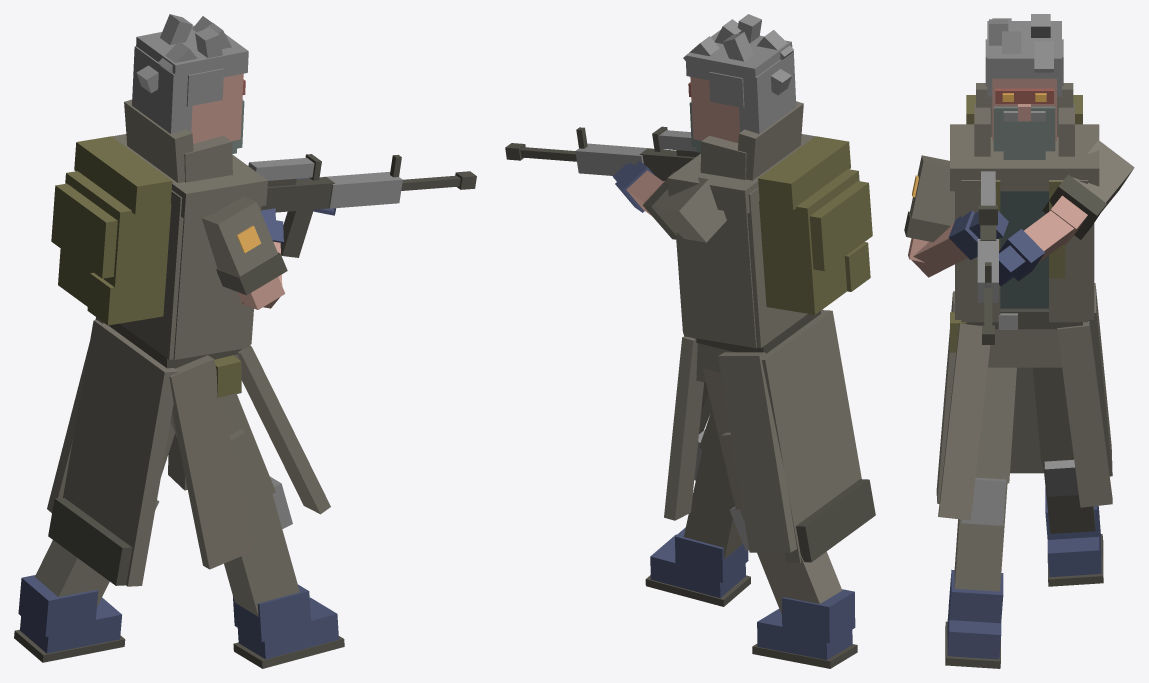
File: hero.glb
The picture shows the model from 3 angles, left to right: view 1: azimuth 30°, elevation 25°; view 2: azimuth 150°, elevation 25°; view 3: azimuth 270°, elevation 25°; orthographic projection. The views are drawn at different scales.
Parts seen in each view (by area): view 1: skirtBackMesh, skirtSideRMesh, pack, coatSide1, shinR, packRoll, packFlap, skirtFrontRMesh, skirtTail, sleeveR, shoulders, bootTopL (+27 smaller); view 2: skirtBackMesh, skirtSideLMesh, coatSide-1, pack, skirtFrontLMesh, packRoll, packFlap, shinR, skirtTail, shinL, bootTopL, sleeveL (+26 smaller); view 3: skirtFrontRMesh, skirtFrontLMesh, shoulders, thighMeshR, shirt, shinR, thighMeshL, lapel-1, pelvis, skirtBackMesh, hairTop, beard (+41 smaller).
Boxes of the visible parts, bbox=[...] form: skirtBackMesh: bbox=[63, 320, 178, 586]; skirtSideRMesh: bbox=[169, 355, 252, 569]; pack: bbox=[58, 171, 171, 324]; coatSide1: bbox=[173, 206, 260, 359]; shinR: bbox=[224, 494, 299, 616]; packRoll: bbox=[74, 136, 172, 214]; packFlap: bbox=[51, 183, 117, 278]; skirtFrontRMesh: bbox=[237, 346, 330, 514]; skirtTail: bbox=[48, 498, 132, 585]; sleeveR: bbox=[201, 196, 277, 276]; shoulders: bbox=[112, 134, 267, 218]; bootTopL: bbox=[18, 575, 98, 636]; skirtBackMesh: bbox=[761, 310, 861, 562]; skirtSideLMesh: bbox=[718, 352, 796, 552]; coatSide-1: bbox=[676, 211, 756, 347]; pack: bbox=[759, 169, 859, 314]; skirtFrontLMesh: bbox=[664, 336, 703, 520]; packRoll: bbox=[758, 136, 850, 210]; packFlap: bbox=[809, 181, 872, 271]; shinR: bbox=[684, 450, 742, 559]; skirtTail: bbox=[796, 479, 875, 562]; shinL: bbox=[740, 509, 842, 614]; bootTopL: bbox=[782, 589, 855, 643]; sleeveL: bbox=[653, 177, 726, 242]; skirtFrontRMesh: bbox=[938, 323, 990, 520]; skirtFrontLMesh: bbox=[1057, 321, 1112, 507]; shoulders: bbox=[950, 124, 1099, 191]; thighMeshR: bbox=[975, 367, 1016, 483]; shirt: bbox=[1000, 191, 1048, 308]; shinR: bbox=[954, 483, 1007, 591]; thighMeshL: bbox=[1032, 367, 1073, 462]; lapel-1: bbox=[1049, 180, 1087, 322]; pelvis: bbox=[988, 329, 1061, 367]; skirtBackMesh: bbox=[1010, 367, 1043, 473]; hairTop: bbox=[987, 21, 1061, 78]; beard: bbox=[993, 106, 1055, 151].
Size of the model in its own units: 1.36 by 2.04 by 0.7102.
